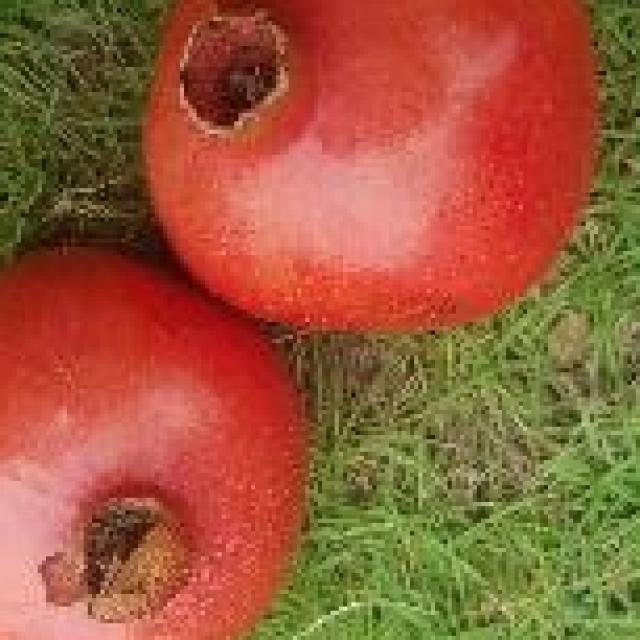Good_Lime-10-21 days: (0, 0, 611, 640)
